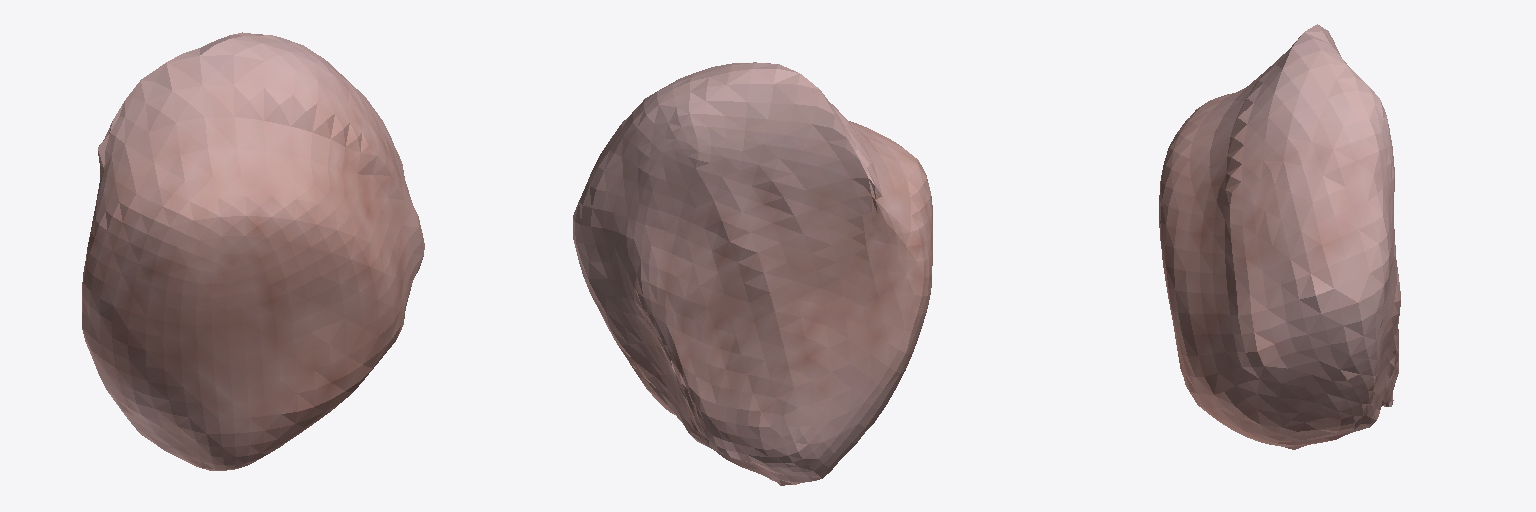
3 renders of one model, left to right at view 1: azimuth 30°, elevation 25°; view 2: azimuth 150°, elevation 25°; view 3: azimuth 270°, elevation 25°, orthographic.
Visible parts, largest first — view 1: right_patella; view 2: right_patella; view 3: right_patella.
Part boxes in pixels (bbox=[...]): right_patella: bbox=[82, 32, 424, 470]; right_patella: bbox=[573, 62, 932, 485]; right_patella: bbox=[1159, 24, 1400, 449].
Bounding box in the file's own units: 0.4042 × 0.4854 × 0.2596.
1 materials, 1 textured.